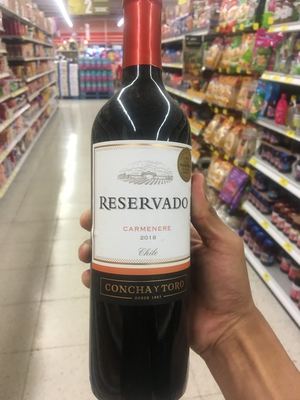reservado carmenere: (82, 10, 203, 396)
